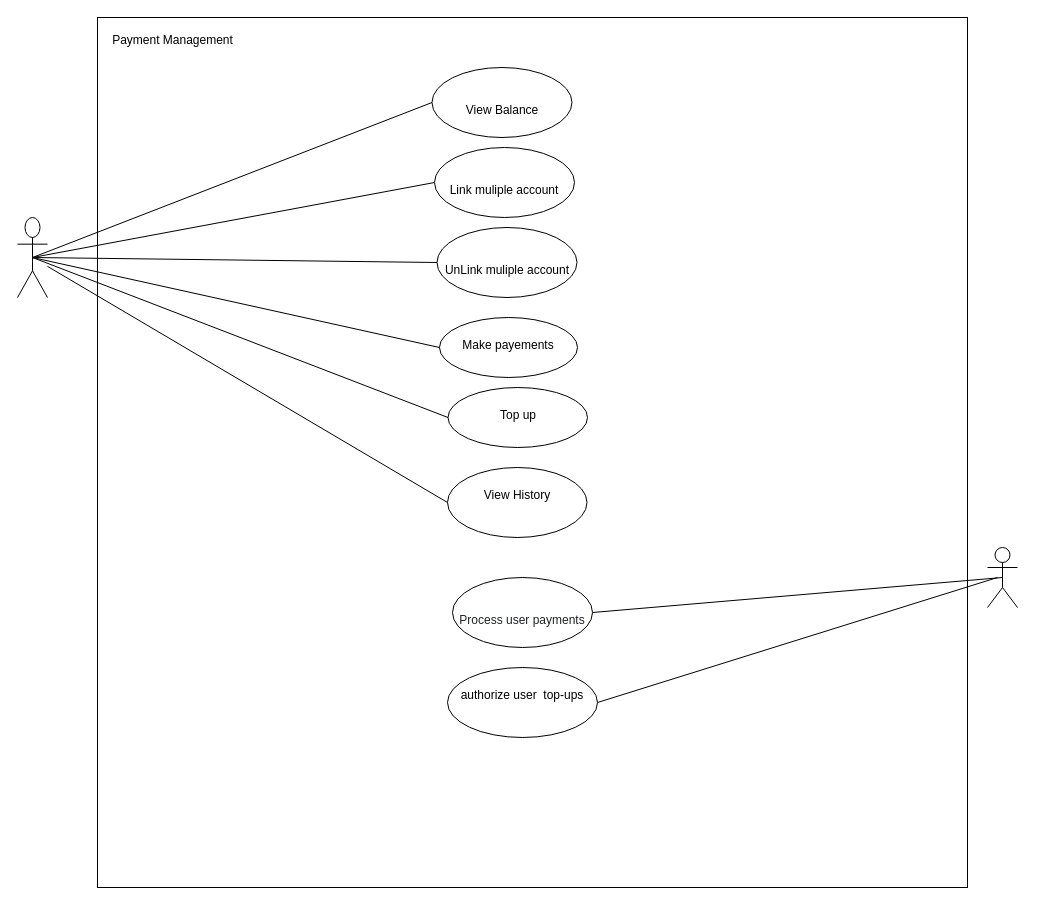
Some shapes in this 1039 by 905 pixel diagram are drawn without their labels. Each missing label, with the centre of its shape:
Client: the point at 32,257
system: the point at 1002,577
